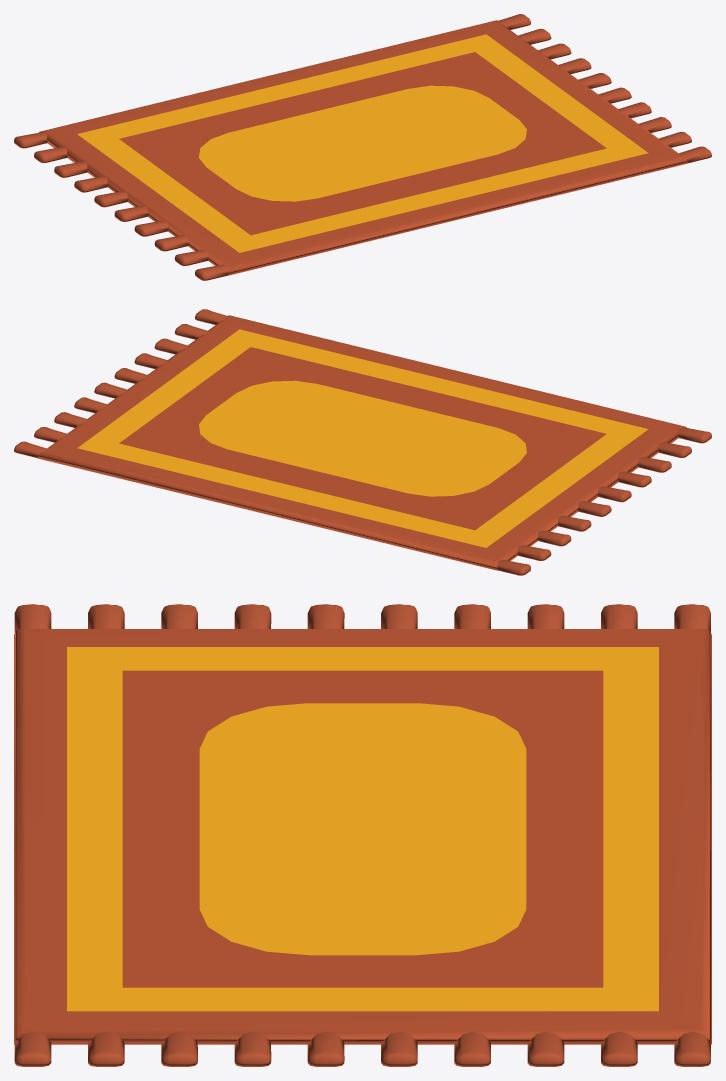
File: Carpet_12.glb
The picture shows the model from 3 angles, top to bottom: view 1: azimuth 30°, elevation 25°; view 2: azimuth 150°, elevation 25°; view 3: azimuth 270°, elevation 25°; orthographic projection. The views are drawn at different scales.
Parts seen in each view (by area): view 1: Carpet_12; view 2: Carpet_12; view 3: Carpet_12.
Part boxes in pixels (x1,y1,x2,y2): Carpet_12: [14, 14, 711, 280]; Carpet_12: [14, 309, 711, 575]; Carpet_12: [14, 604, 711, 1066].
Size of the model in its own units: 2.77 by 0.0339 by 1.8.
Materials: 1 (1 with a texture image).
